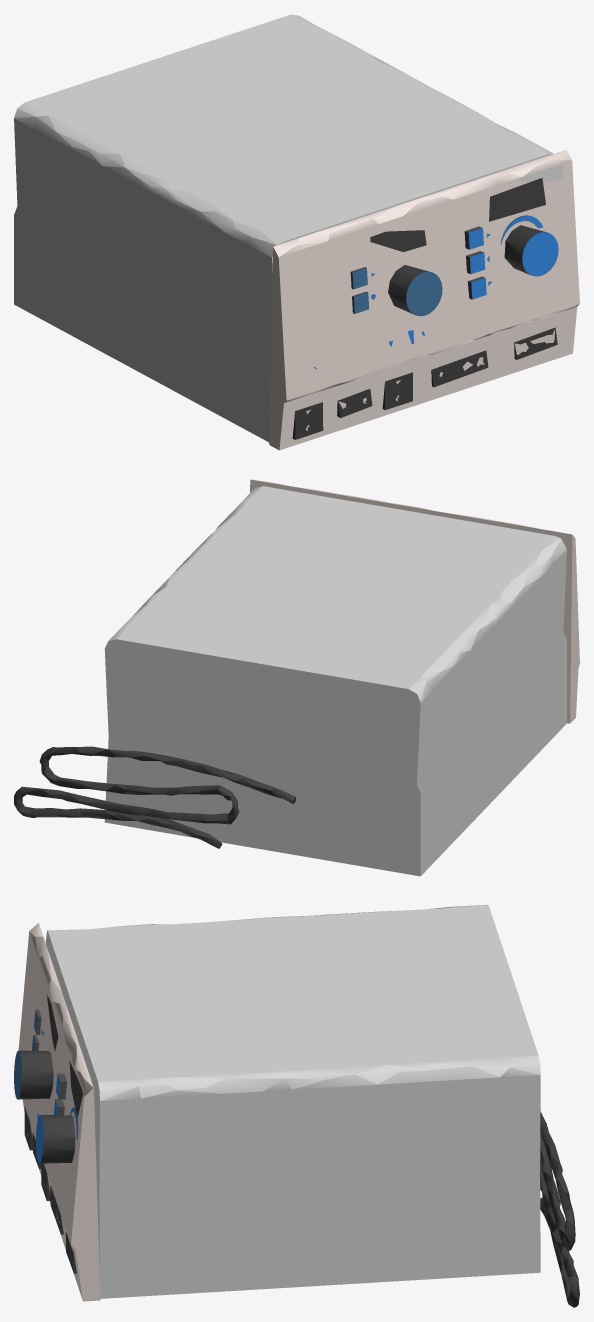
File: w-Medical Equipment - ElectroSurgical Generator ESU w-Medical Equipment - ElectroSurgical Generator ESU [294692].fbx
3 views of the same model, one above another, from view 1: azimuth 30°, elevation 25°; view 2: azimuth 150°, elevation 25°; view 3: azimuth 270°, elevation 25° (orthographic). The views are drawn at different scales.
Parts seen in each view (by area): view 1: w_Medical_Equipment___ElectroSurgical_Generator_ESU_w_Medica; view 2: w_Medical_Equipment___ElectroSurgical_Generator_ESU_w_Medica; view 3: w_Medical_Equipment___ElectroSurgical_Generator_ESU_w_Medica.
Boxes of the visible parts, left/top/right/bottom form: w_Medical_Equipment___ElectroSurgical_Generator_ESU_w_Medica: left=14, top=14, right=579, bottom=450; w_Medical_Equipment___ElectroSurgical_Generator_ESU_w_Medica: left=14, top=479, right=579, bottom=876; w_Medical_Equipment___ElectroSurgical_Generator_ESU_w_Medica: left=14, top=905, right=579, bottom=1307.
Bounding box in the file's own units: 31.25 × 15.19 × 36.59.
